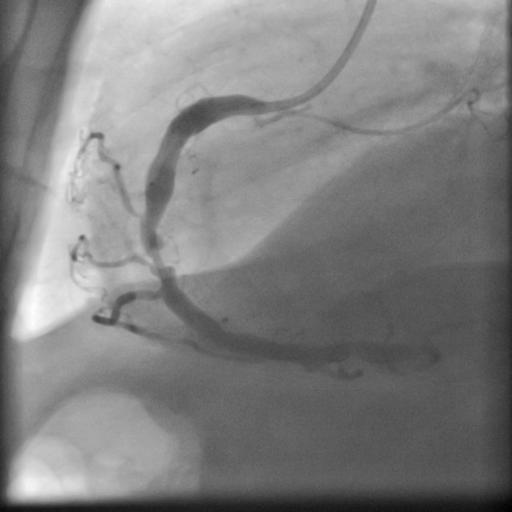Stenosis: (140, 234, 181, 283)
